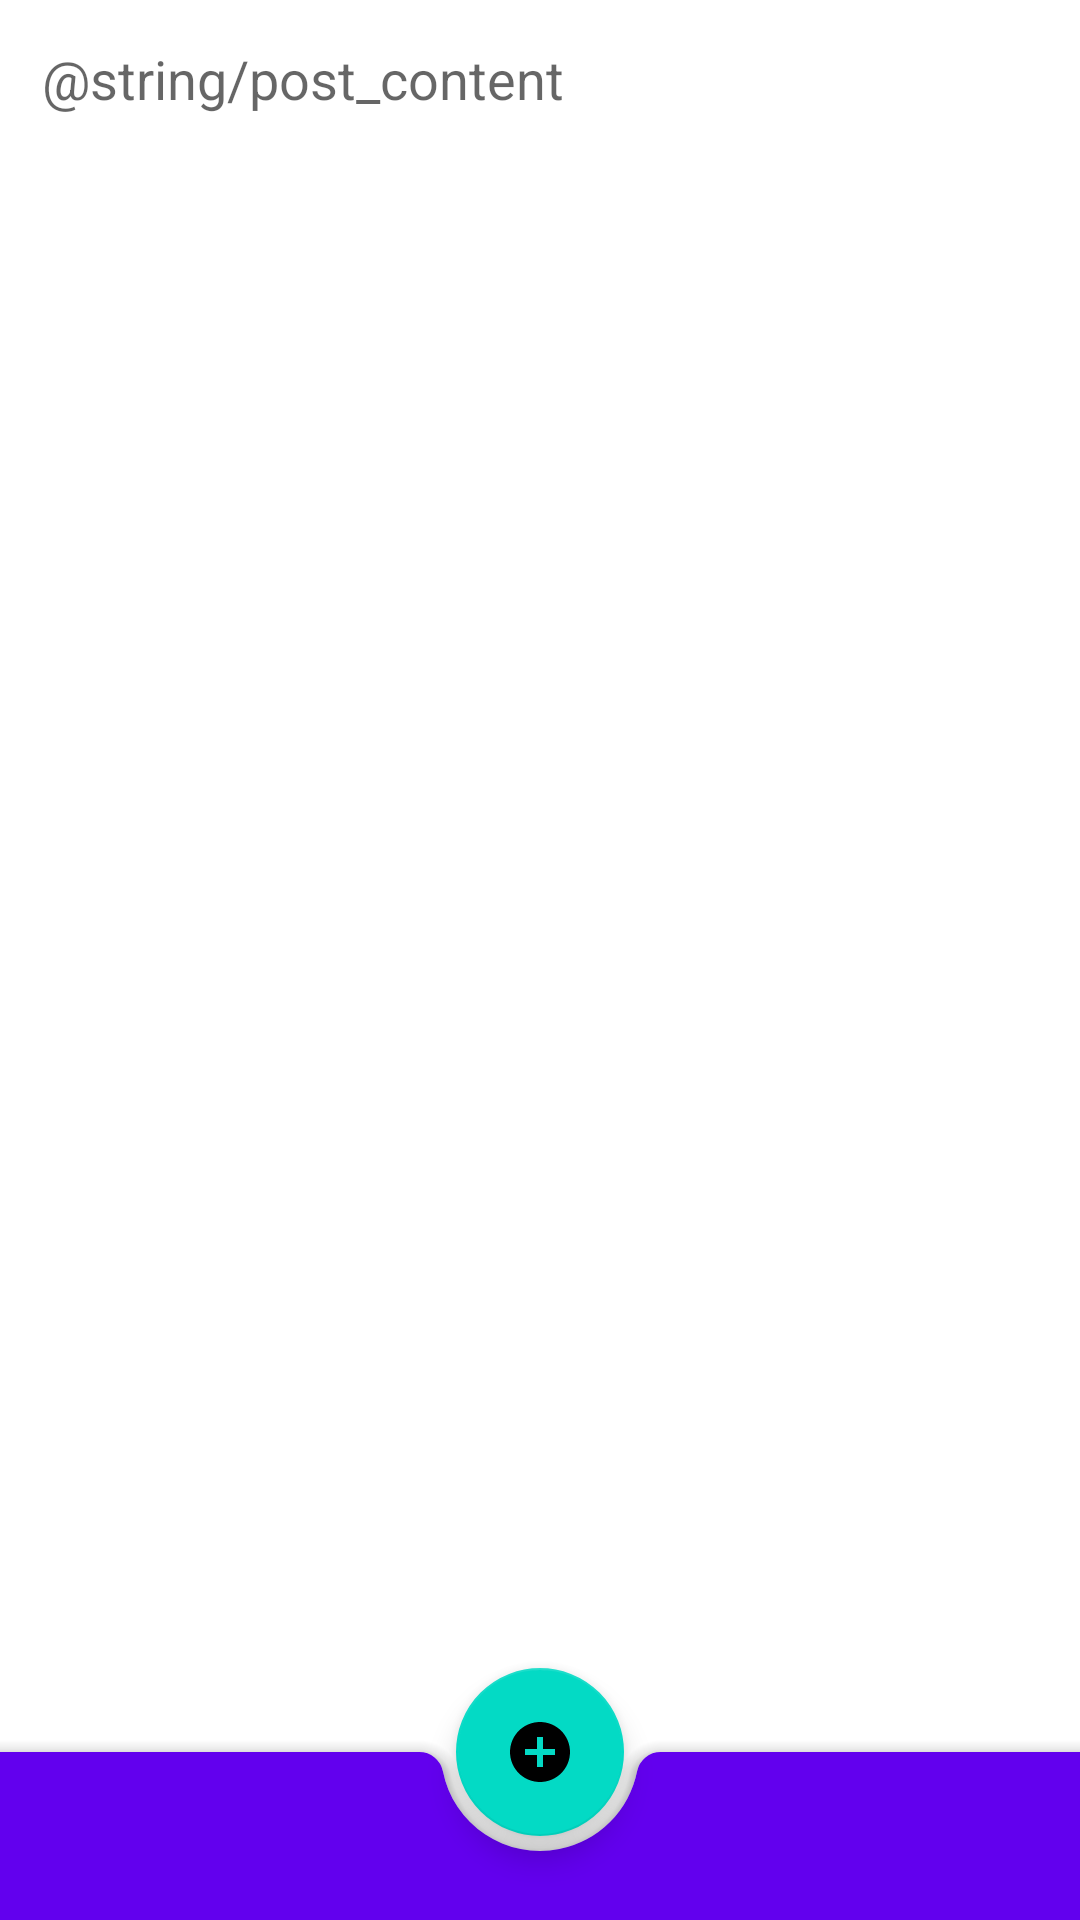

Where to tap for icons on this 1080*1920 app screen, as (x=x, y=y):
add circle: (x=540, y=1752)
